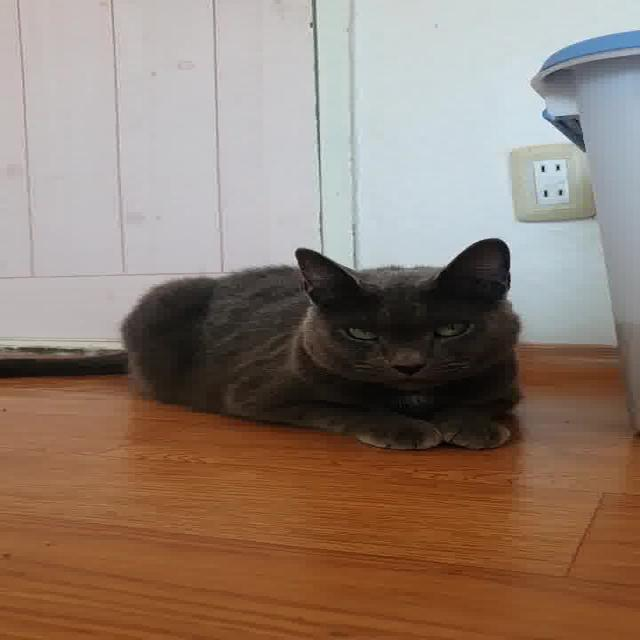cat: (0, 226, 596, 462)
